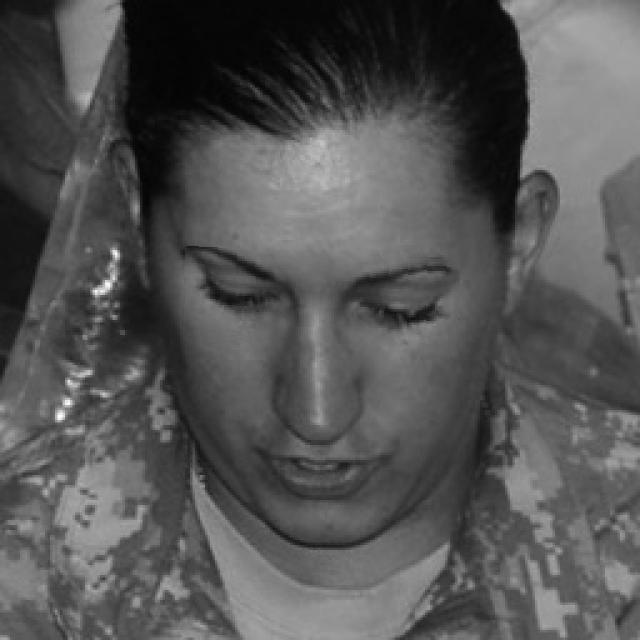no-glasses: (182, 249, 460, 347)
